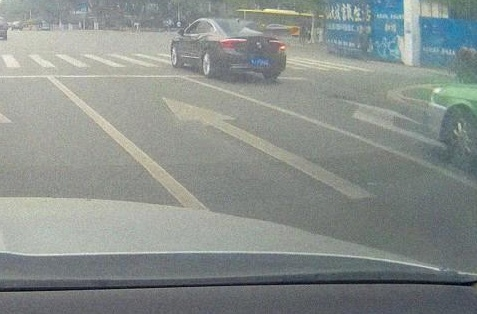L_light: (219, 38, 247, 49)
R_light: (269, 40, 286, 51)
T_light: (235, 21, 243, 24)
day-right: (211, 19, 286, 79)
